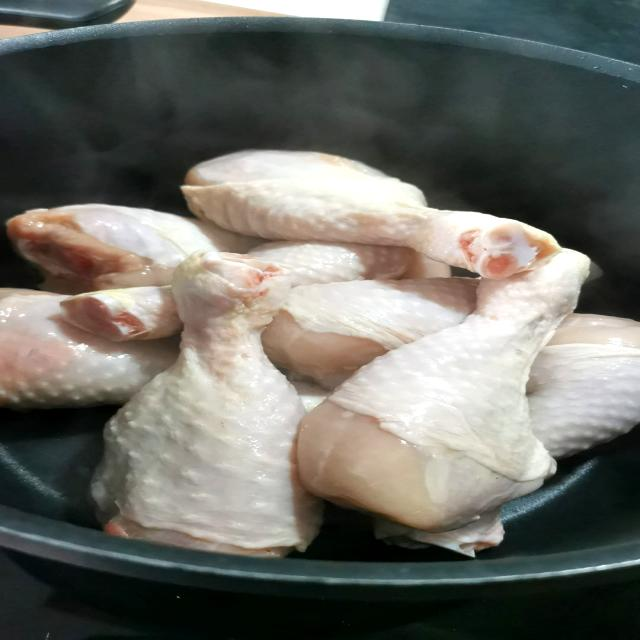chicken: (2, 137, 640, 548), (302, 230, 610, 532), (95, 239, 328, 554)
